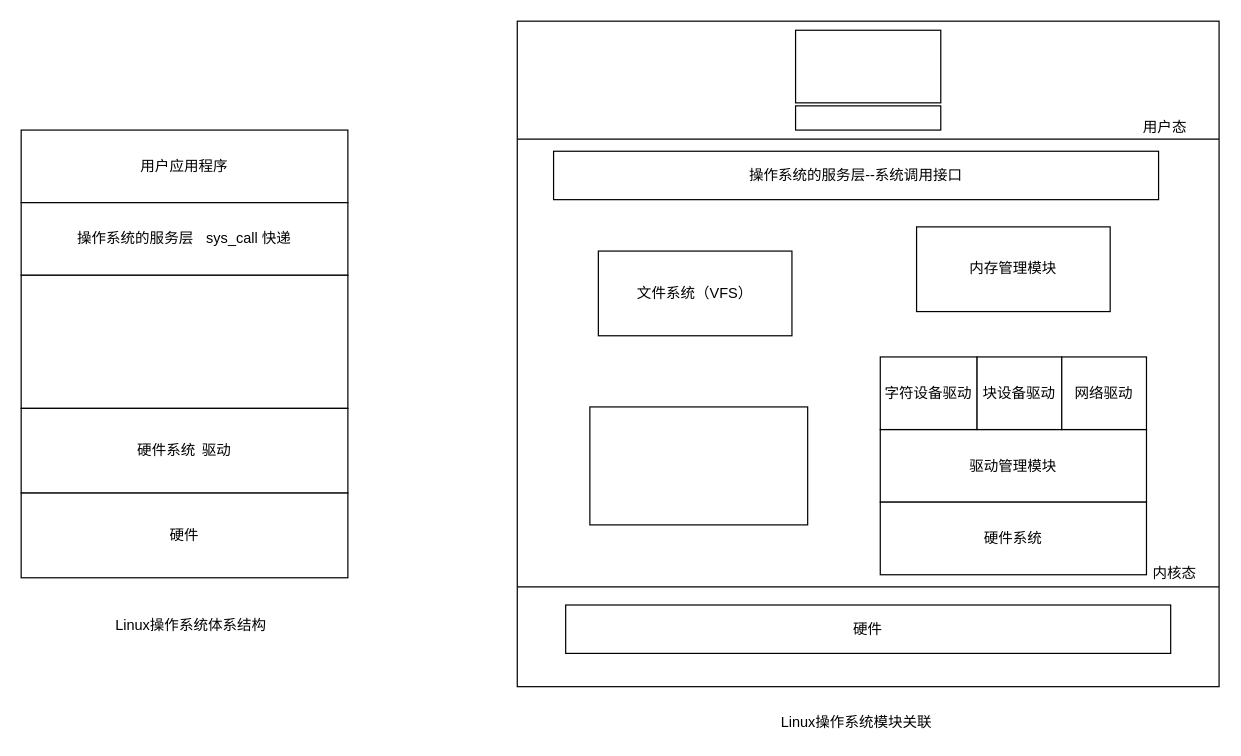
The diagram is 1241 pixels wide and 756 high, and some of its shapes have lost their labels. Each missing label, with the centre of its shape:
"操作系统内核 文件系统 内存管理 进程管理 驱动管理" goes at (184,341).
"标准库或SDK" goes at (867,117).
"用户程序" goes at (867,66).
"进程管理模块 进程间通信模块" goes at (698,465).
